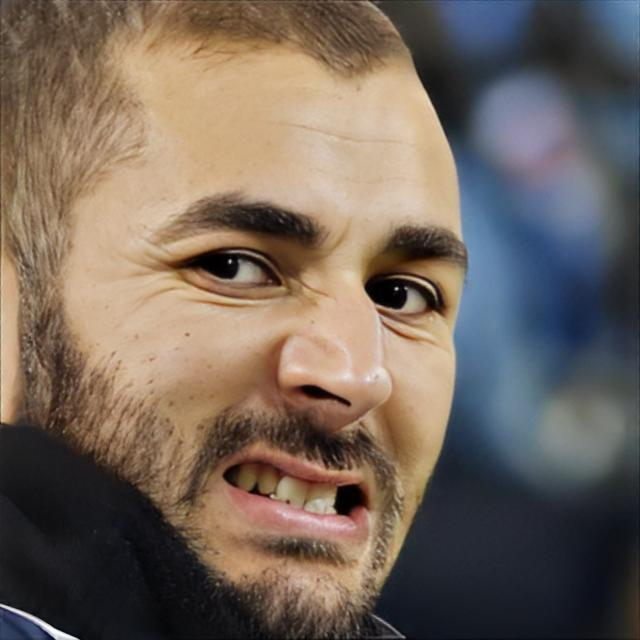disgust: (21, 0, 468, 640)
